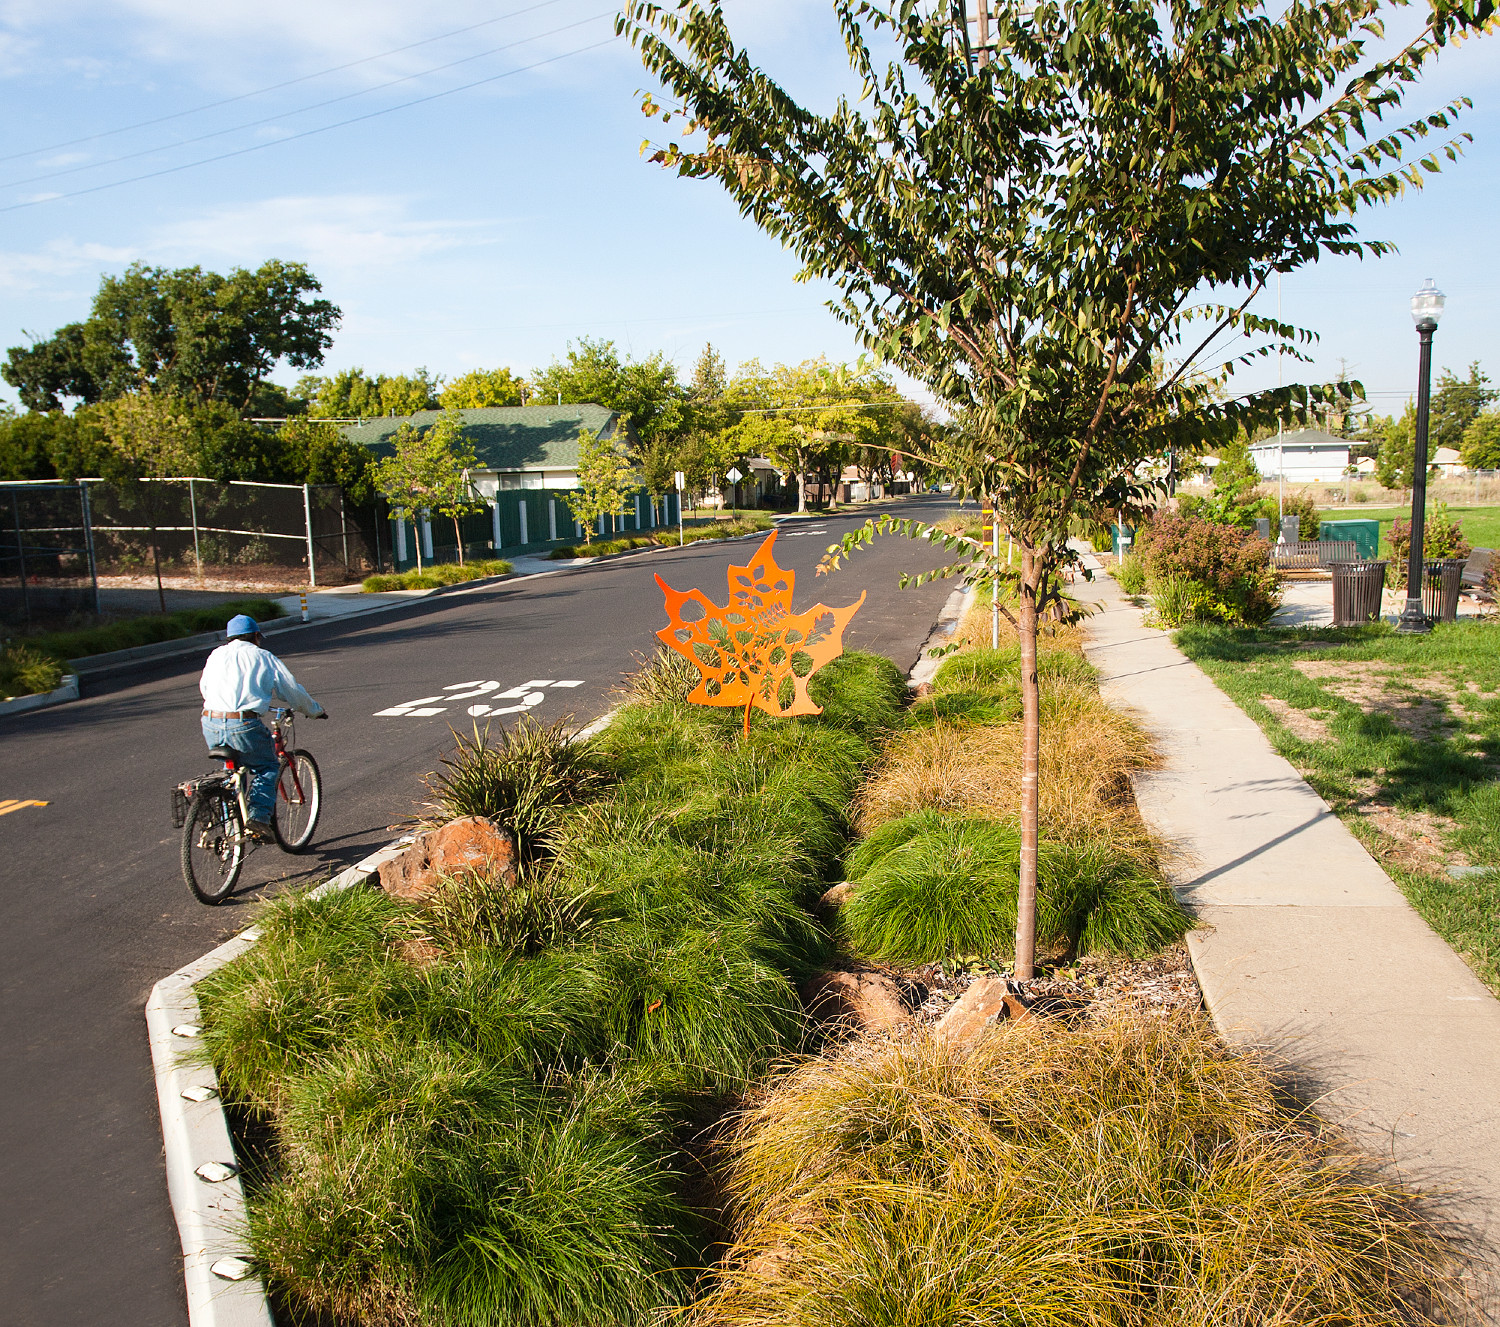tree: (617, 14, 1418, 1002)
